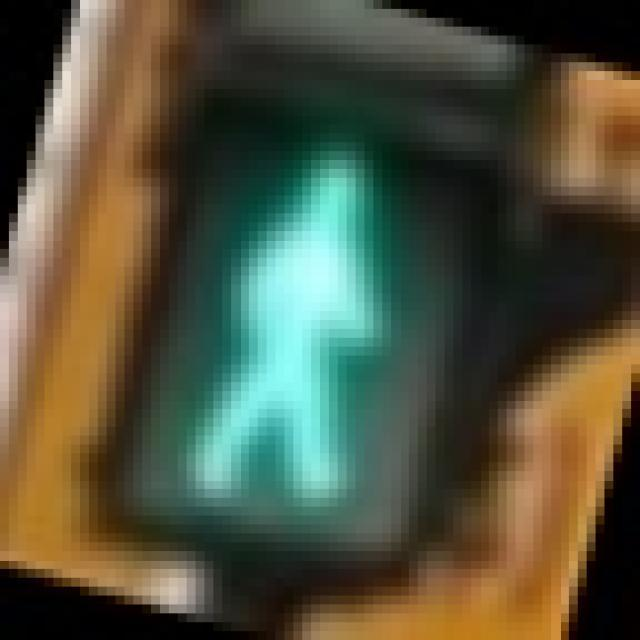geen-crossing: (98, 53, 524, 560)
